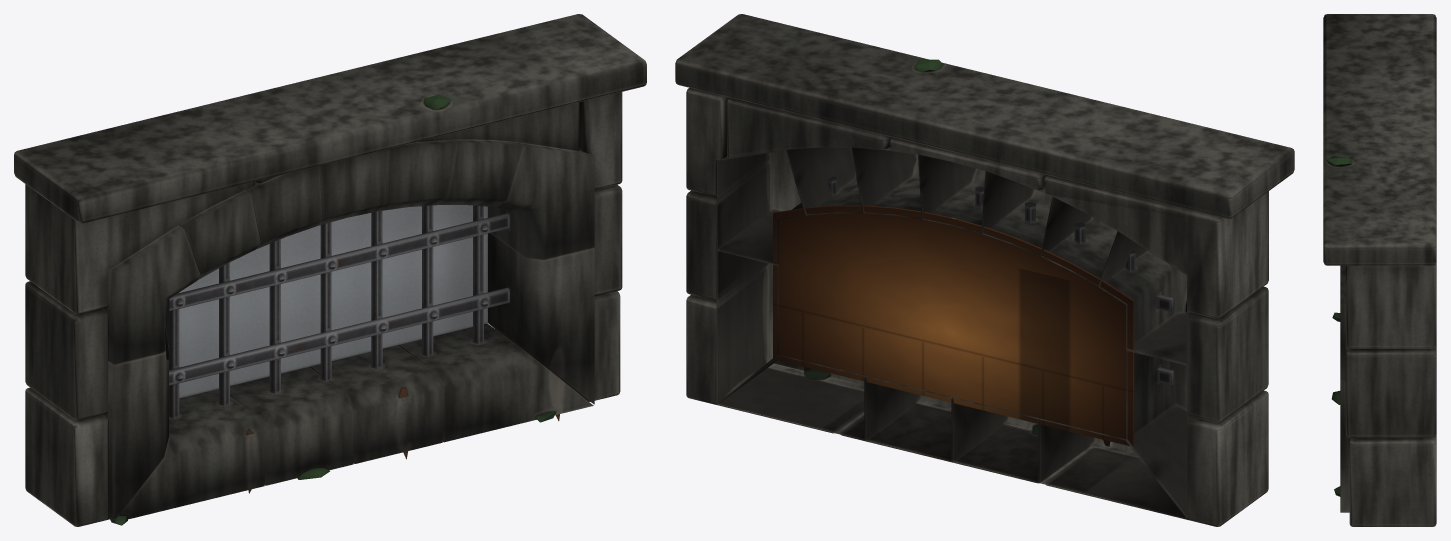
File: BasementGrate.fbx
The picture shows the model from 3 angles, left to right: view 1: azimuth 30°, elevation 25°; view 2: azimuth 150°, elevation 25°; view 3: azimuth 270°, elevation 25°; orthographic projection. The views are drawn at different scales.
Visible parts, largest first — view 1: BasementGrate_Main, BasementGrate_Glass; view 2: BasementGrate_Main, BasementGrate_Room; view 3: BasementGrate_Main.
Part boxes in pixels (left/top/right/bottom): BasementGrate_Main: left=14, top=14, right=646, bottom=526; BasementGrate_Glass: left=179, top=205, right=487, bottom=398; BasementGrate_Main: left=675, top=14, right=1294, bottom=526; BasementGrate_Room: left=773, top=205, right=1134, bottom=446; BasementGrate_Main: left=1323, top=14, right=1436, bottom=526.
Bounding box in the file's own units: 560 × 334 × 115.
